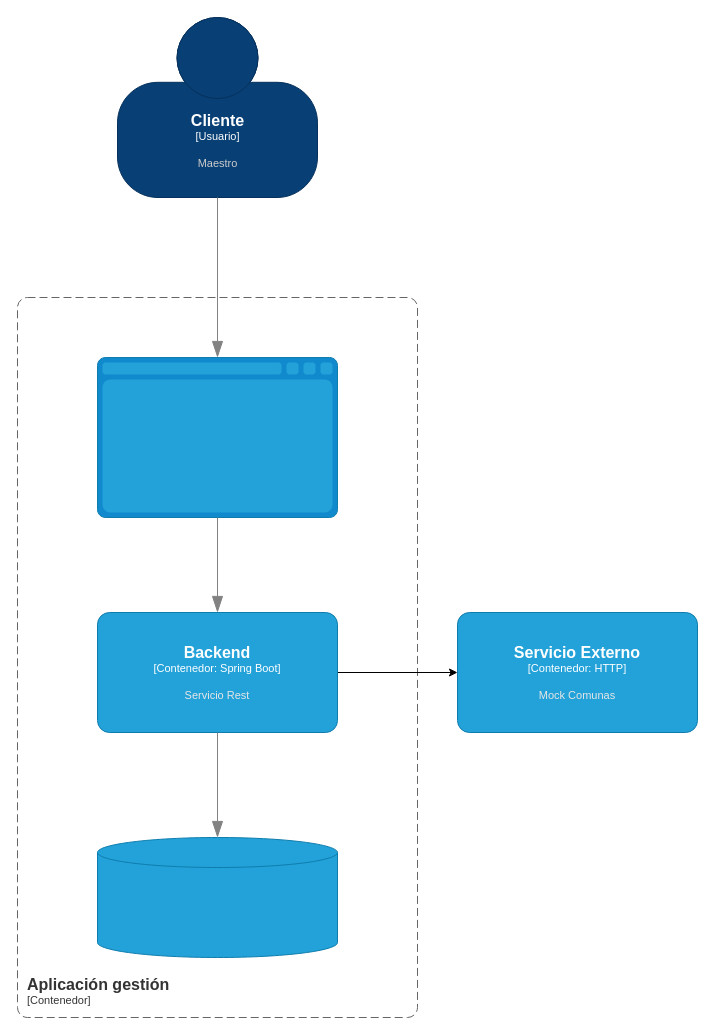
Image size: 715x1035. Some labels were removed from this diagram. Here are the shapes that lost their labels. From the top down, the centre of each, then its label:
At (217,437): "Single-Page Application [Contenedor: Angular] Aplicación de consulta y gestión".
At (217,897): "Base de Datos [Contenedor: H2] Base de datos".
